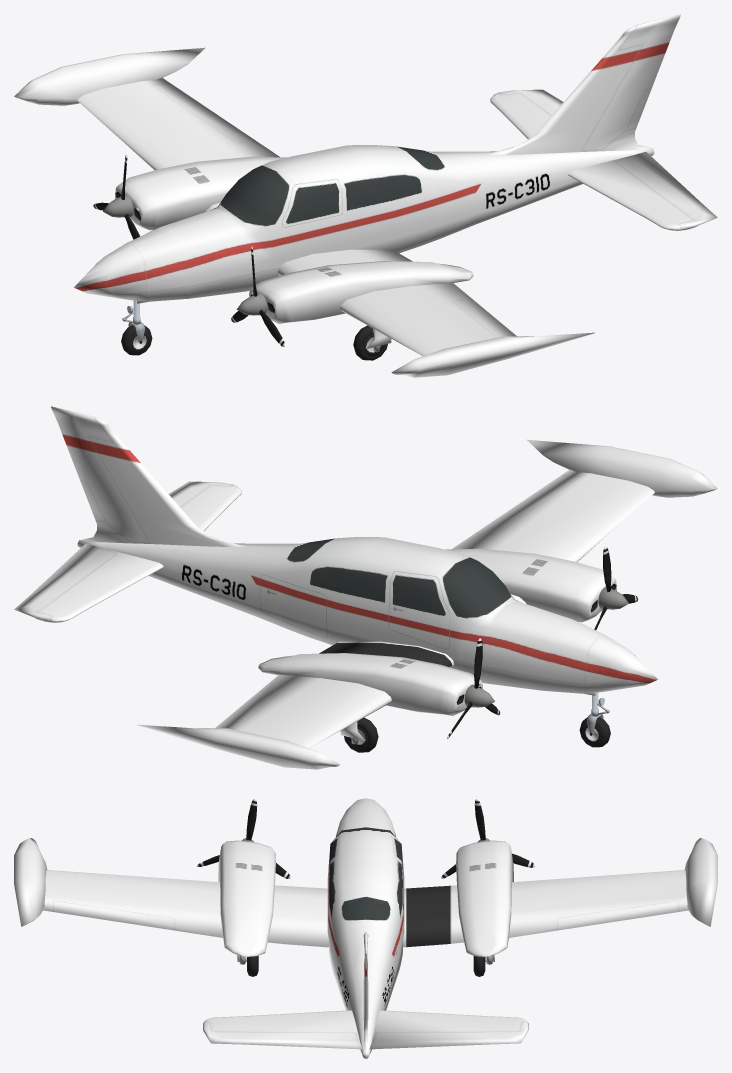
The model's file is cessna310.glb.
3 renders of one model, top to bottom at view 1: azimuth 30°, elevation 25°; view 2: azimuth 150°, elevation 25°; view 3: azimuth 270°, elevation 25°, orthographic. The views are drawn at different scales.
Parts seen in each view (by area): view 1: Fuselage_Texture1_0, Engine_Texture2_0, Cube__0, LowerTail_Material.001_0, Stabilizer1_StabilizerTexture_0, Prop1_PropellorTexture_0; view 2: Fuselage_Texture1_0, Engine_Texture2_0, Cube__0, LowerTail_Material.001_0, Stabilizer1_StabilizerTexture_0, Prop1_PropellorTexture_0; view 3: Engine_Texture2_0, Fuselage_Texture1_0, Stabilizer1_StabilizerTexture_0, Cube__0, Prop1_PropellorTexture_0, LowerTail_Material.001_0.
Boxes of the visible parts, left/top/right/bottom form: Fuselage_Texture1_0: left=74, top=145, right=654, bottom=301; Engine_Texture2_0: left=77, top=77, right=516, bottom=355; Cube__0: left=14, top=47, right=594, bottom=377; LowerTail_Material.001_0: left=486, top=14, right=680, bottom=154; Stabilizer1_StabilizerTexture_0: left=490, top=89, right=717, bottom=230; Prop1_PropellorTexture_0: left=93, top=154, right=284, bottom=346; Fuselage_Texture1_0: left=77, top=537, right=657, bottom=693; Engine_Texture2_0: left=215, top=469, right=654, bottom=747; Cube__0: left=137, top=439, right=717, bottom=769; LowerTail_Material.001_0: left=51, top=406, right=245, bottom=546; Stabilizer1_StabilizerTexture_0: left=14, top=481, right=241, bottom=622; Prop1_PropellorTexture_0: left=447, top=546, right=638, bottom=738; Engine_Texture2_0: left=43, top=840, right=688, bottom=956; Fuselage_Texture1_0: left=327, top=798, right=404, bottom=1058; Stabilizer1_StabilizerTexture_0: left=203, top=1010, right=528, bottom=1049; Cube__0: left=14, top=838, right=717, bottom=976; Prop1_PropellorTexture_0: left=197, top=799, right=534, bottom=878; LowerTail_Material.001_0: left=363, top=932, right=368, bottom=1051.
Size of the model in its own units: 9.88 by 3.23 by 11.2.
Materials: 6 (6 with a texture image).
